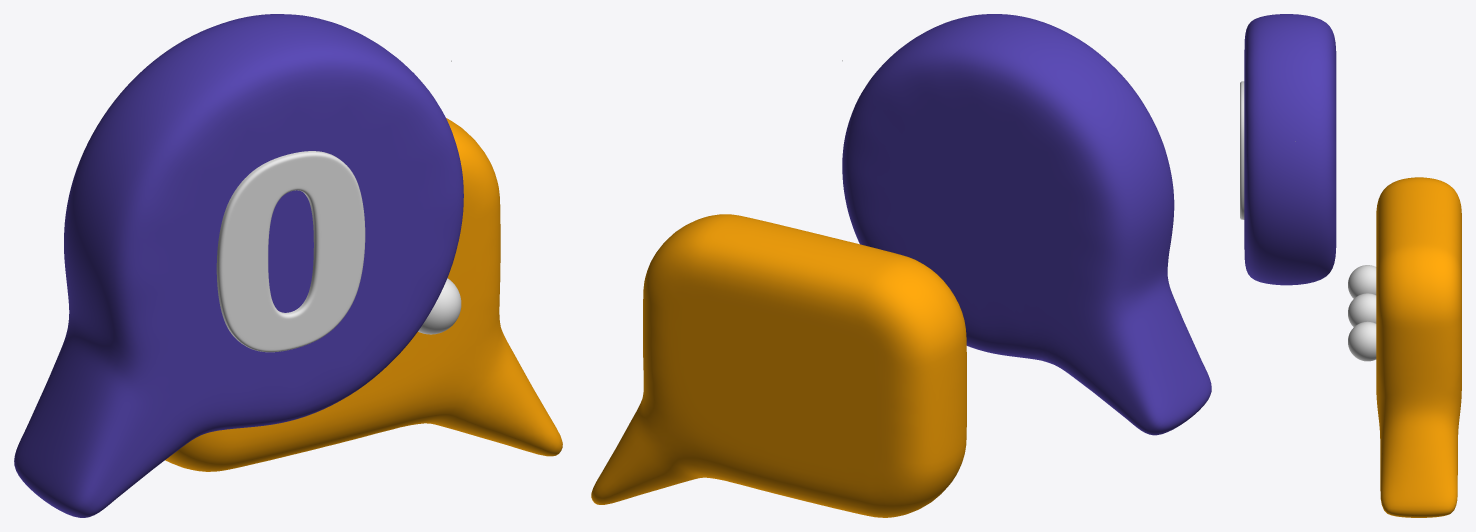
Rendered from no-chat-found-animated-3d-icon-488002413136.glb.
3 renders of one model, left to right at view 1: azimuth 30°, elevation 25°; view 2: azimuth 150°, elevation 25°; view 3: azimuth 270°, elevation 25°, orthographic. The views are drawn at different scales.
Parts seen in each view (by area): view 1: Bubble Chat 1.002, Bubble Chat 2, Zero.001, Triple Dots; view 2: Bubble Chat 1.002, Bubble Chat 2; view 3: Bubble Chat 2, Bubble Chat 1.002, Triple Dots, Zero.001.
Part boxes in pixels (x1,y1,x2,y2): Bubble Chat 1.002: [14, 14, 463, 517]; Bubble Chat 2: [165, 118, 562, 471]; Zero.001: [216, 151, 365, 352]; Triple Dots: [418, 278, 461, 334]; Bubble Chat 1.002: [842, 14, 1211, 435]; Bubble Chat 2: [591, 214, 966, 517]; Bubble Chat 2: [1376, 177, 1461, 517]; Bubble Chat 1.002: [1244, 14, 1336, 285]; Triple Dots: [1348, 265, 1376, 361]; Zero.001: [1240, 81, 1244, 219].
Size of what is drawn, in the model's own units: 1.95 by 1.78 by 0.9563.
